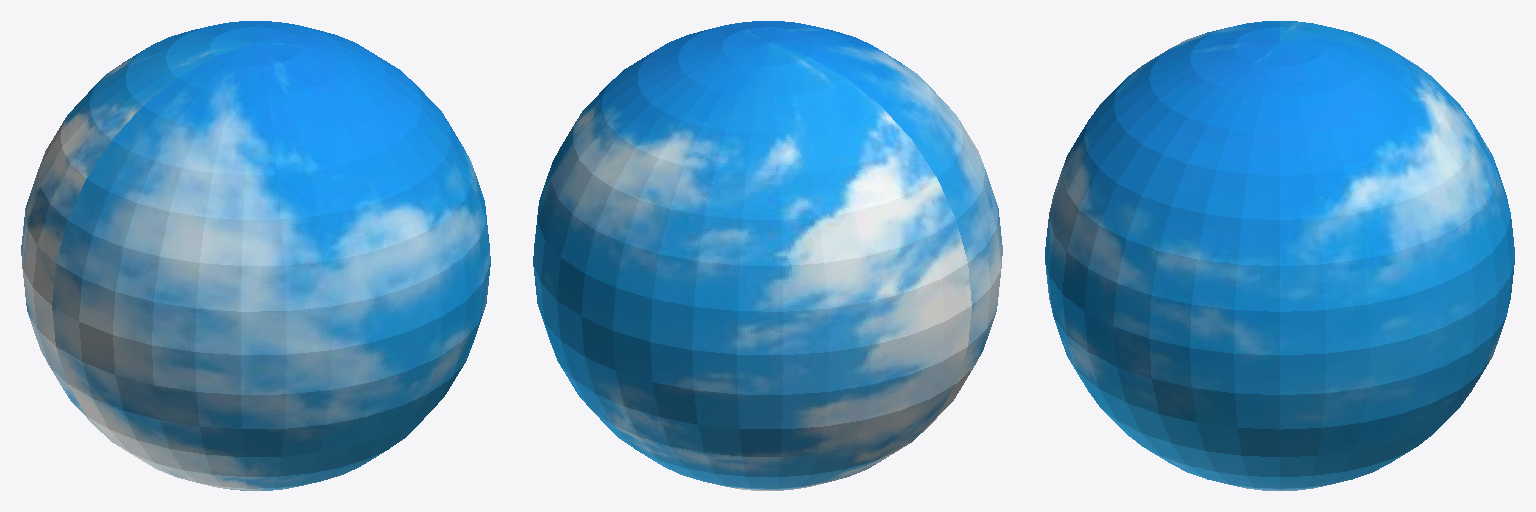
The picture shows the model from 3 angles: view 1: azimuth 30°, elevation 25°; view 2: azimuth 150°, elevation 25°; view 3: azimuth 270°, elevation 25°; orthographic projection.
Parts seen in each view (by area): view 1: 球; view 2: 球; view 3: 球.
Boxes of the visible parts, box(x1,y1,x2,y2) form: 球: box(21, 21, 490, 490); 球: box(533, 21, 1002, 490); 球: box(1045, 21, 1514, 490).
Bounding box in the file's own units: 2 × 2 × 2.
Materials: 1 (1 with a texture image).